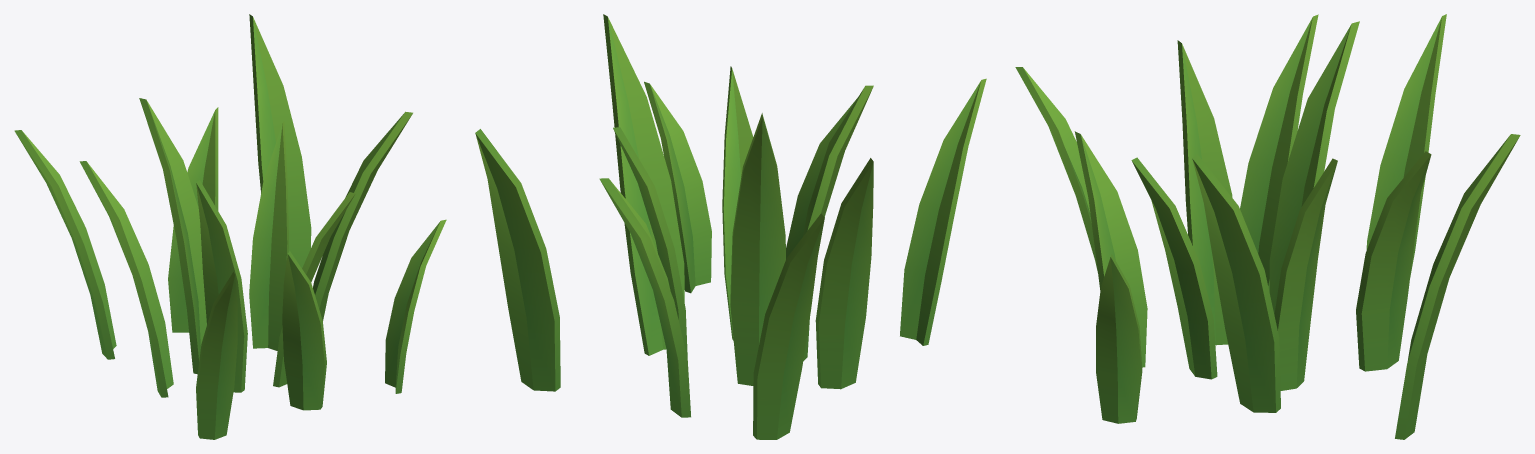
File: Grass_2_D_Color1.glb
3 views of the same model, side by side, from view 1: azimuth 30°, elevation 25°; view 2: azimuth 150°, elevation 25°; view 3: azimuth 270°, elevation 25° (orthographic). The views are drawn at different scales.
Visible parts, largest first — view 1: Grass_2_D_Color1; view 2: Grass_2_D_Color1; view 3: Grass_2_D_Color1.
Part boxes in pixels (x1=…): Grass_2_D_Color1: x1=14, y1=14, x2=446, y2=439; Grass_2_D_Color1: x1=475, y1=14, x2=986, y2=439; Grass_2_D_Color1: x1=1015, y1=14, x2=1520, y2=439.
Bounding box in the file's own units: 1.1 × 0.9352 × 1.37.
Materials: 1 (1 with a texture image).
